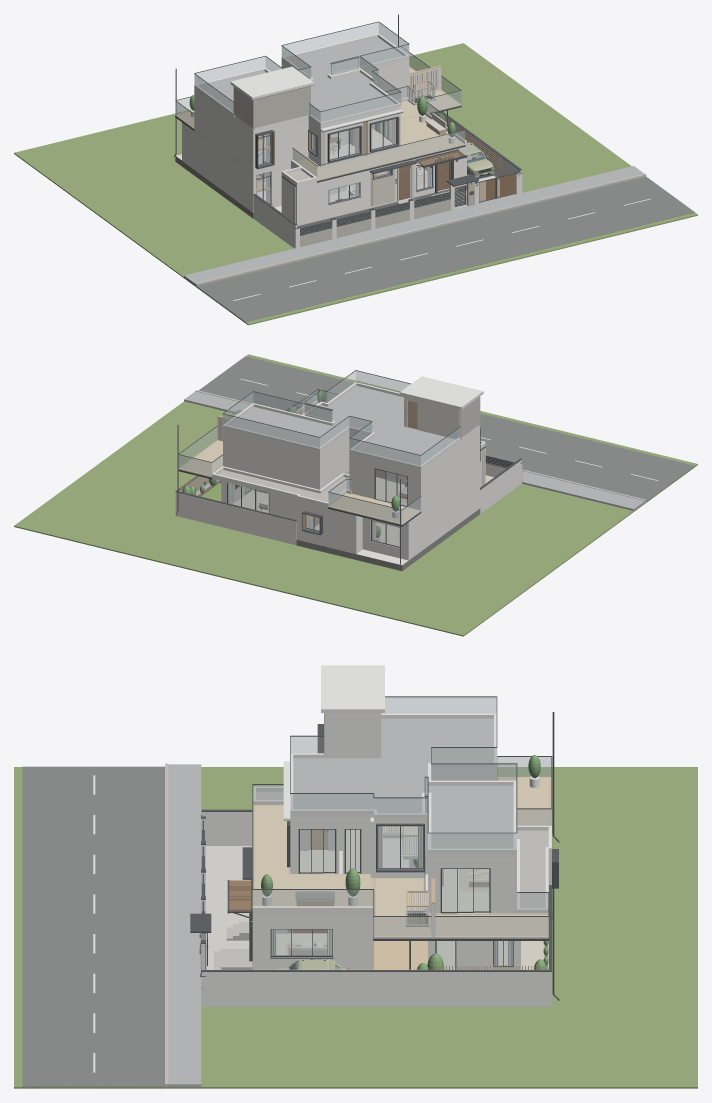
3 renders of one model, top to bottom at view 1: azimuth 30°, elevation 25°; view 2: azimuth 150°, elevation 25°; view 3: azimuth 270°, elevation 25°, orthographic. The views are drawn at different scales.
Parts seen in each view (by area): view 1: world, custom-roof-finish-1, roof-guard-0, u-terrace-front/stone-deck, u-terrace-front-guard-0, custom-roof-edge-1, exterior-boundary-cladding-0.00, wall-e7d02531362a30d683/0, south-stair-core-1-headhouse-lid, wall-abc2f67261d10b6db3/0, wall-38f1ee24cbdae6e4df/0, wall-51478f582458ea84ee/0 (+16 smaller); view 2: world, custom-roof-finish-1, roof-guard-0, wall-695b57e705ed7dc3f3/0, custom-roof-edge-1, wall-e7d02531362a30d683/0, south-stair-core-1-headhouse-lid, u-bedroom-balcony-guard-0, wall-abc2f67261d10b6db3/0, custom-roof-edge-0, south-stair-core-1-roof-wall-right/0, plinth-band (+16 smaller); view 3: world, custom-roof-finish-1, roof-guard-0, u-terrace-north/stone-deck, u-terrace-front/stone-deck, custom-roof-edge-1, front-tiled-court-1, south-stair-core-1-headhouse-lid, u-terrace-north-guard-1, south-stair-core-1-roof-wall-front/0, custom-roof-finish-0, custom-roof-edge-0 (+21 smaller).
Part boxes in pixels (x1,y1,x2,y2): world: (14, 14, 697, 325); custom-roof-finish-1: (200, 37, 402, 121); roof-guard-0: (194, 22, 409, 124); u-terrace-front/stone-deck: (308, 115, 462, 178); u-terrace-front-guard-0: (317, 103, 464, 179); custom-roof-edge-1: (194, 33, 409, 125); exterior-boundary-cladding-0.00: (300, 199, 450, 246); wall-e7d02531362a30d683/0: (182, 122, 223, 190); south-stair-core-1-headhouse-lid: (230, 66, 314, 99); wall-abc2f67261d10b6db3/0: (217, 107, 255, 171); wall-38f1ee24cbdae6e4df/0: (223, 152, 255, 212); wall-51478f582458ea84ee/0: (365, 61, 408, 99); world: (14, 354, 697, 636); custom-roof-finish-1: (229, 386, 455, 465); roof-guard-0: (222, 371, 444, 468); wall-695b57e705ed7dc3f3/0: (223, 430, 301, 484); custom-roof-edge-1: (223, 382, 460, 469); wall-e7d02531362a30d683/0: (406, 492, 449, 560); south-stair-core-1-headhouse-lid: (400, 376, 483, 409); u-bedroom-balcony-guard-0: (328, 479, 420, 523); wall-abc2f67261d10b6db3/0: (443, 429, 479, 493); custom-roof-edge-0: (212, 401, 485, 506); south-stair-core-1-roof-wall-right/0: (404, 399, 460, 438); plinth-band: (296, 508, 480, 570); world: (14, 712, 697, 1088); custom-roof-finish-1: (293, 718, 513, 848); roof-guard-0: (290, 697, 516, 852); u-terrace-north/stone-deck: (374, 879, 548, 937); u-terrace-front/stone-deck: (255, 806, 371, 906); custom-roof-edge-1: (290, 713, 516, 853); front-tiled-court-1: (205, 846, 252, 951); south-stair-core-1-headhouse-lid: (321, 665, 384, 712); u-terrace-north-guard-1: (435, 893, 548, 936); south-stair-core-1-roof-wall-front/0: (326, 713, 379, 758); custom-roof-finish-0: (256, 791, 548, 908); custom-roof-edge-0: (252, 786, 551, 913).
Size of the model in its own units: 36.29 by 9.58 by 32.76.
